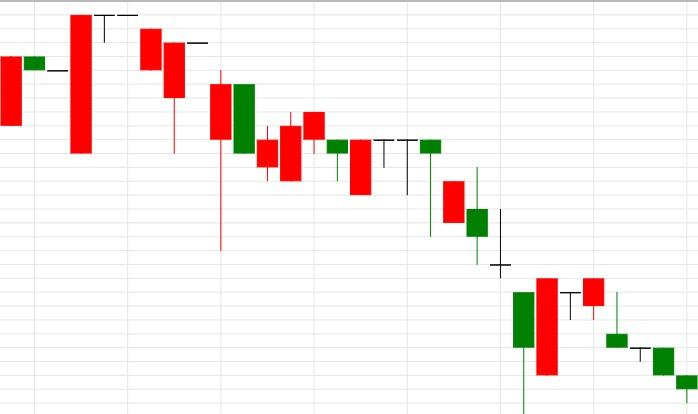hammer_rise: (69, 13, 233, 251)
